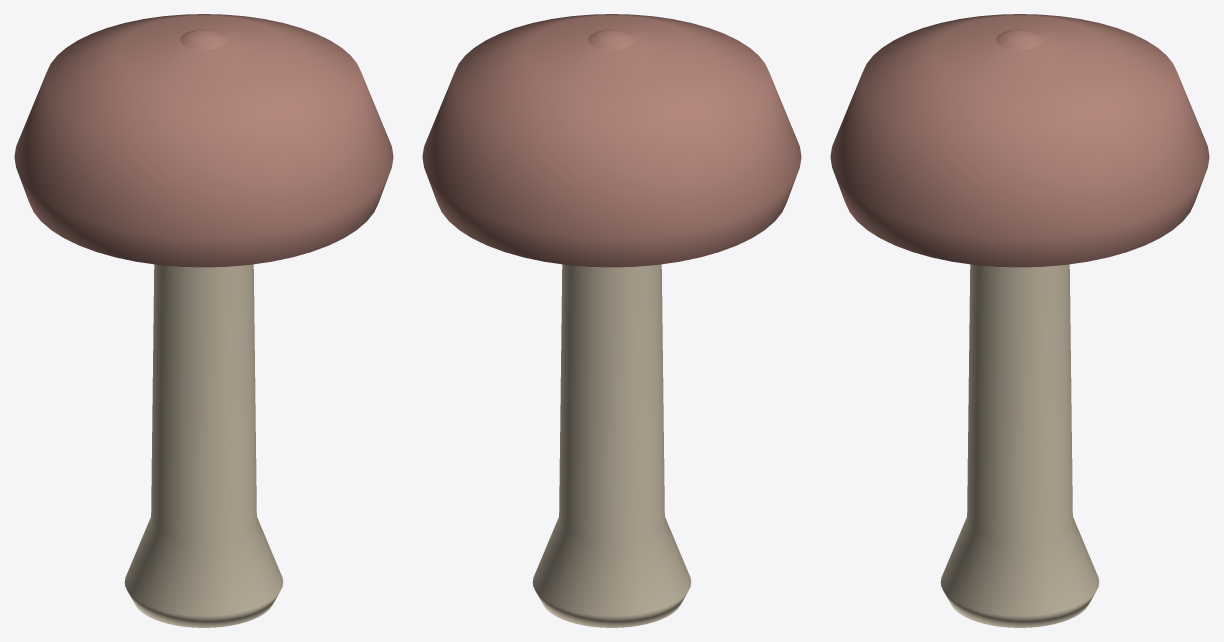
File: mushroomlamp.glb
The picture shows the model from 3 angles, left to right: view 1: azimuth 30°, elevation 25°; view 2: azimuth 150°, elevation 25°; view 3: azimuth 270°, elevation 25°; orthographic projection.
Parts seen in each view (by area): view 1: hollow-overhanging-cap, grounded-mushroom-stem, rounded-mushroom-crown; view 2: hollow-overhanging-cap, grounded-mushroom-stem, rounded-mushroom-crown; view 3: hollow-overhanging-cap, grounded-mushroom-stem, rounded-mushroom-crown.
Boxes of the visible parts, left/top/right/bottom form: hollow-overhanging-cap: left=14, top=14, right=393, bottom=267; grounded-mushroom-stem: left=124, top=264, right=283, bottom=627; rounded-mushroom-crown: left=180, top=29, right=227, bottom=49; hollow-overhanging-cap: left=422, top=14, right=801, bottom=267; grounded-mushroom-stem: left=532, top=264, right=691, bottom=627; rounded-mushroom-crown: left=588, top=29, right=635, bottom=49; hollow-overhanging-cap: left=830, top=14, right=1209, bottom=267; grounded-mushroom-stem: left=940, top=264, right=1099, bottom=627; rounded-mushroom-crown: left=996, top=29, right=1043, bottom=49.
Size of the model in its own units: 0.43 by 0.7071 by 0.43.
